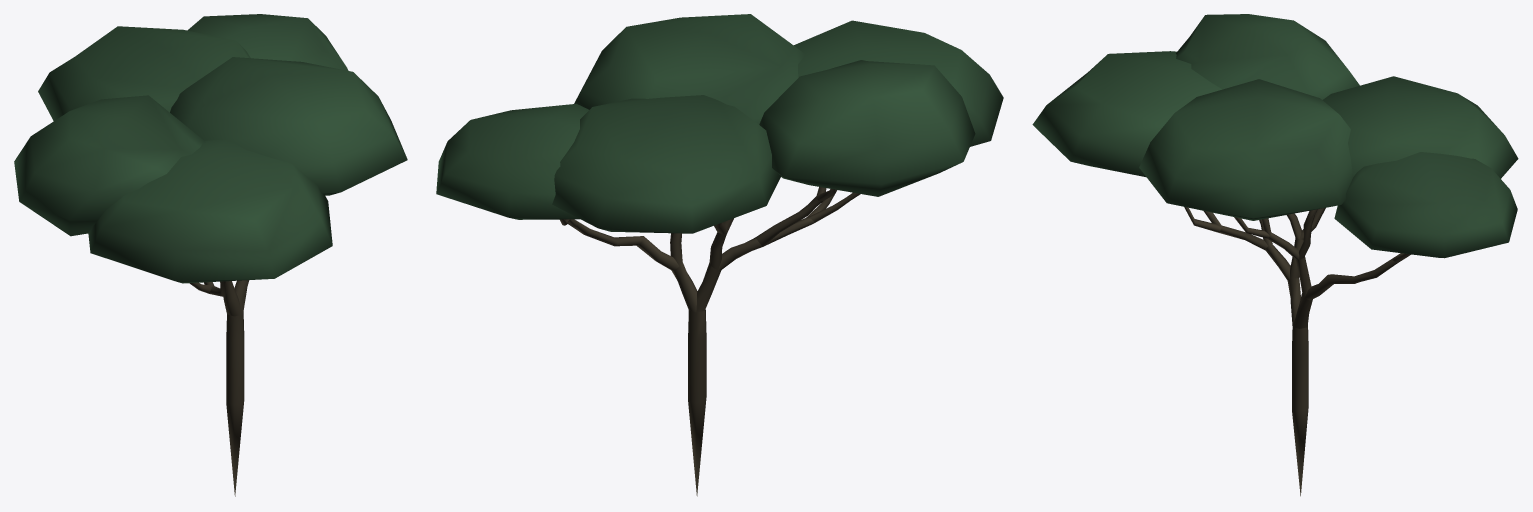
File: trees-broadleaf-trees-acacia-tree_v4.fbx
The picture shows the model from 3 angles, left to right: view 1: azimuth 30°, elevation 25°; view 2: azimuth 150°, elevation 25°; view 3: azimuth 270°, elevation 25°; orthographic projection. The views are drawn at different scales.
Visible parts, largest first — view 1: Acacia Tree_v4; view 2: Acacia Tree_v4; view 3: Acacia Tree_v4.
Boxes of the visible parts, x1=… form: Acacia Tree_v4: x1=14, y1=14, x2=407, y2=496; Acacia Tree_v4: x1=436, y1=14, x2=1003, y2=496; Acacia Tree_v4: x1=1032, y1=14, x2=1518, y2=496.
Size of the model in its own units: 9.15 by 9.22 by 10.
